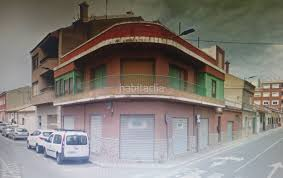Muro: (62, 27, 222, 160)
